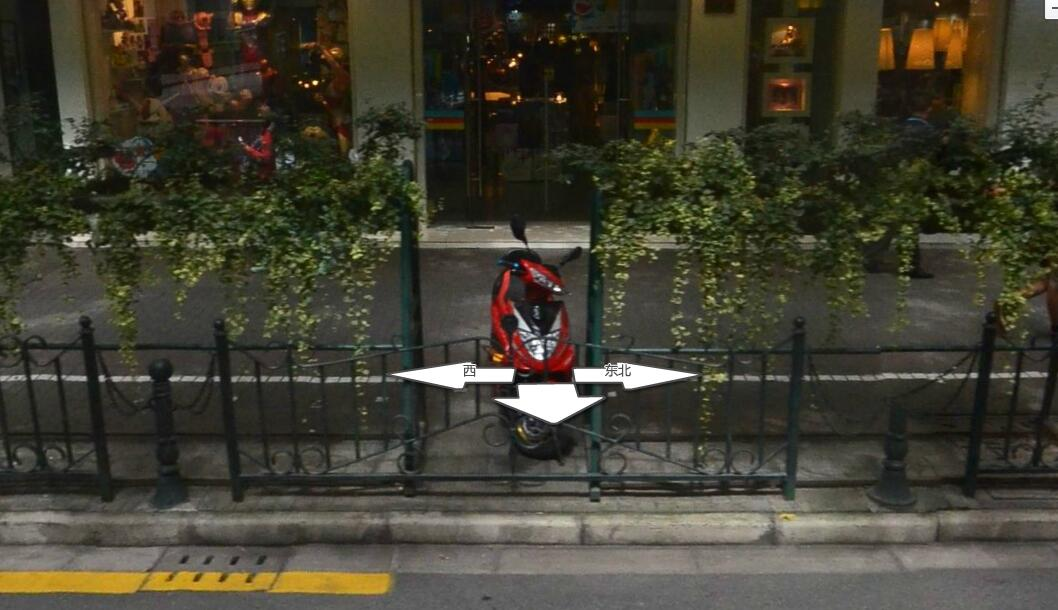side: (185, 507, 388, 547), (580, 510, 774, 548), (2, 510, 185, 548), (390, 512, 582, 547), (774, 511, 939, 543)
